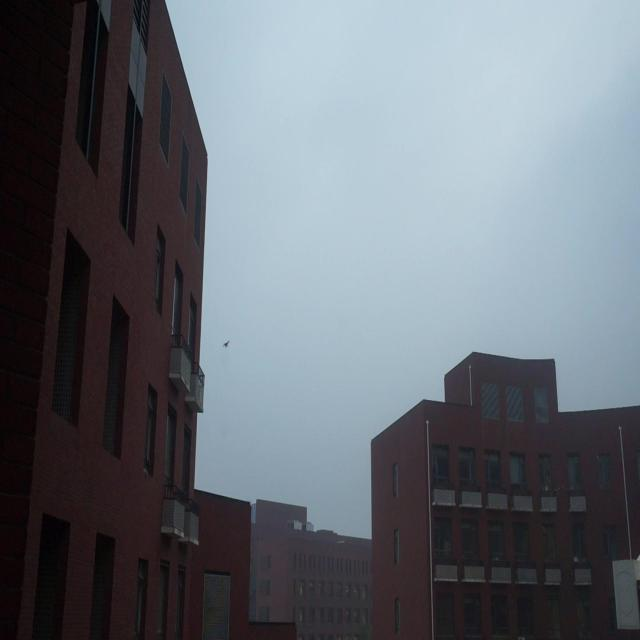drone: (221, 337, 232, 350)
